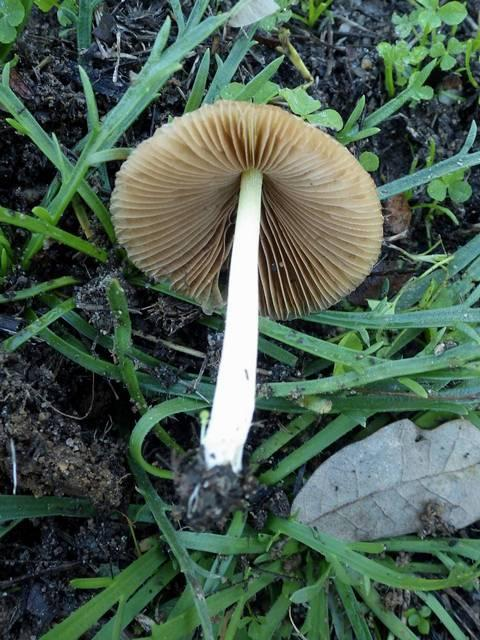Edible Mushroom: (108, 98, 384, 530)
